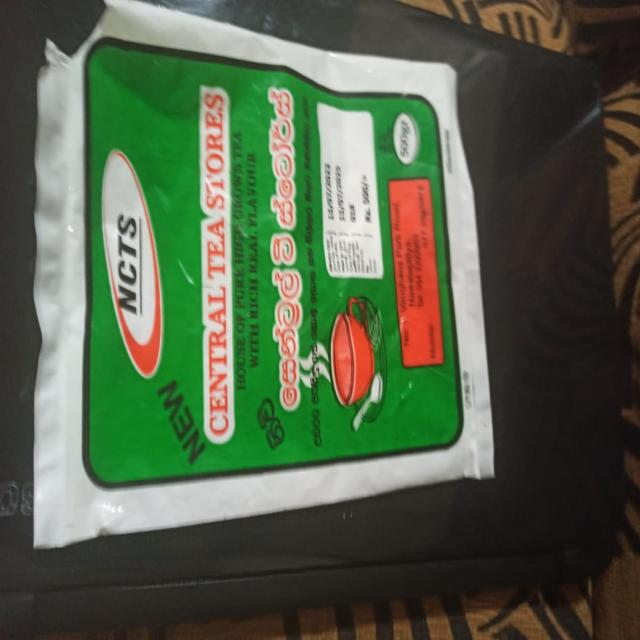Central Tea: (26, 0, 501, 539)
